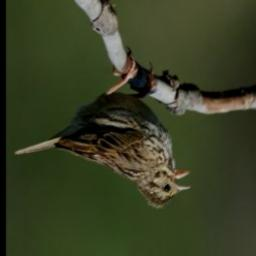Sparrow: (16, 46, 193, 211)
